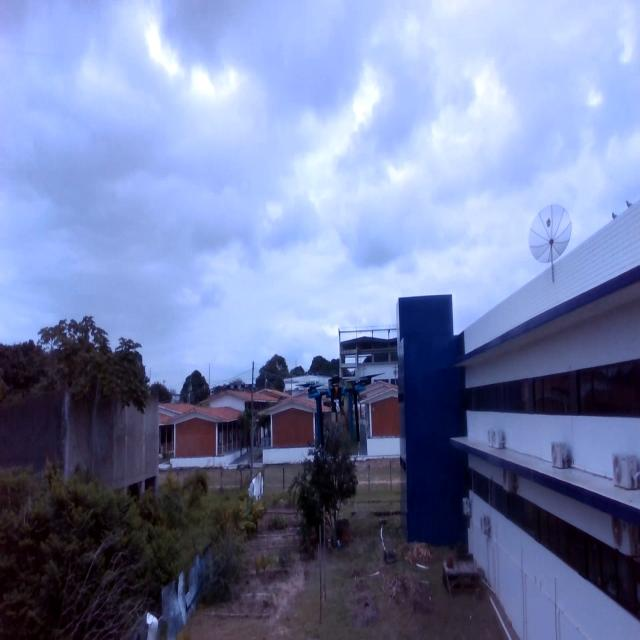-uav-: (284, 358, 388, 458)
